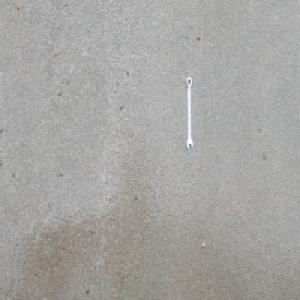Wrench: (185, 75, 193, 150)
